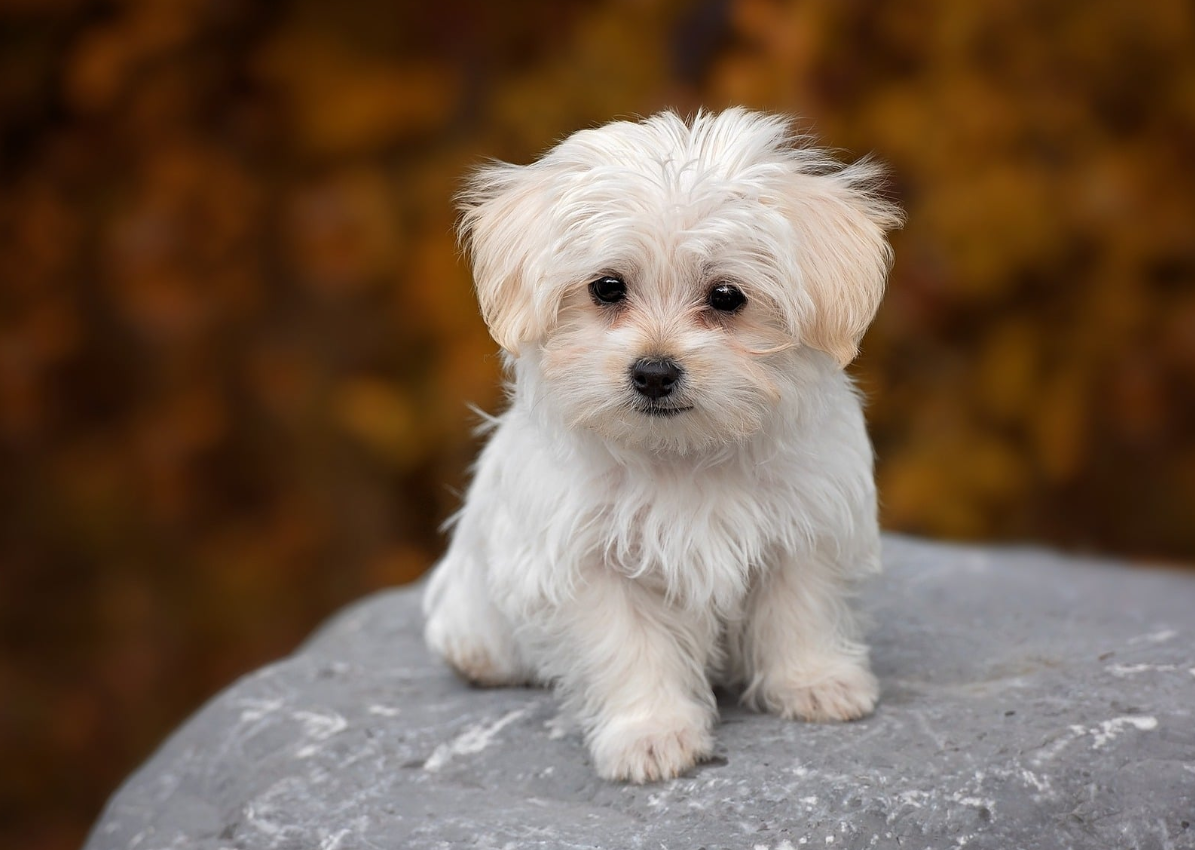perro: (386, 70, 985, 801)
